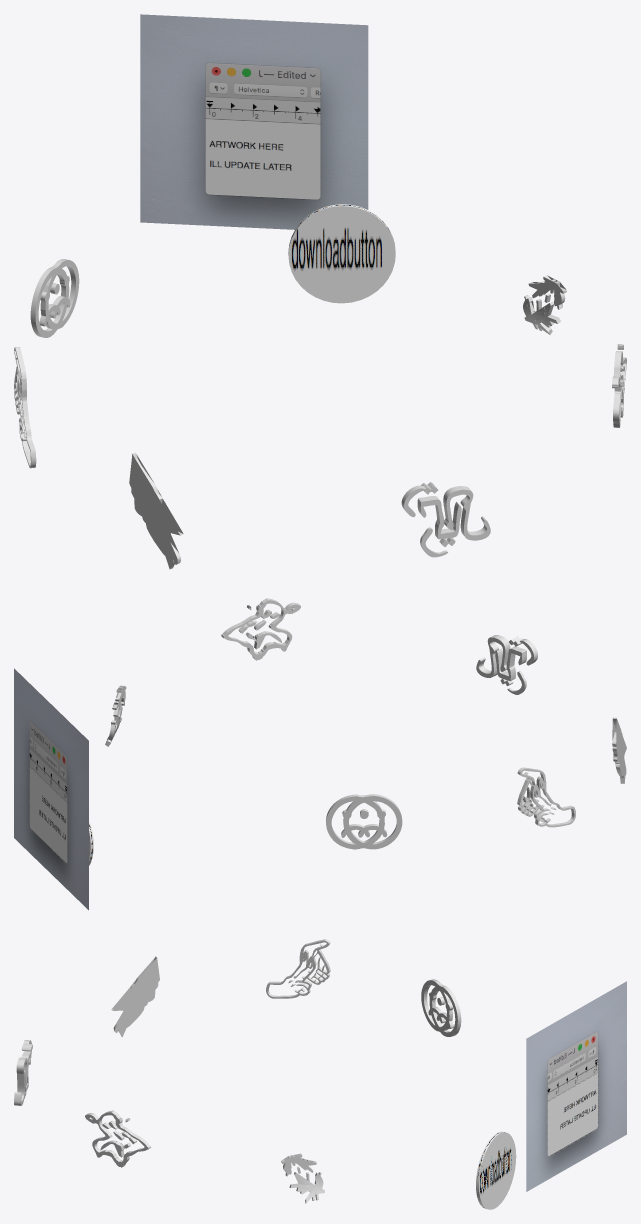
3 renders of one model, top to bottom at view 1: azimuth 30°, elevation 25°; view 2: azimuth 150°, elevation 25°; view 3: azimuth 270°, elevation 25°, orthographic. The views are drawn at different scales.
Visible parts, largest first — view 1: Plane, Cylinder, arab, sphlash, smile, money, hand, slime; view 2: Plane, smile, arab, slime, hand, sphlash, money; view 3: Plane, Cylinder, sphlash, smile, slime, hand, money, arab.
Boxes of the visible parts, box(x1,y1,x2,y2) form: Plane: box(140, 14, 368, 229); Cylinder: box(288, 204, 395, 303); arab: box(401, 482, 490, 557); sphlash: box(129, 452, 183, 569); smile: box(30, 259, 79, 337); money: box(523, 275, 566, 334); hand: box(14, 347, 36, 468); slime: box(612, 344, 626, 427); Plane: box(14, 668, 88, 910); smile: box(326, 794, 402, 849); arab: box(476, 635, 537, 694); slime: box(221, 598, 300, 660); hand: box(517, 767, 575, 827); sphlash: box(612, 717, 626, 783); money: box(105, 685, 126, 746); Plane: box(526, 981, 626, 1191); Cylinder: box(476, 1131, 516, 1209); sphlash: box(111, 956, 159, 1037); smile: box(421, 979, 461, 1036); slime: box(85, 1110, 151, 1167); hand: box(266, 939, 330, 998); money: box(281, 1153, 324, 1203); arab: box(14, 1040, 32, 1105).
Size of the model in its own units: 5721 by 2500 by 7515.
